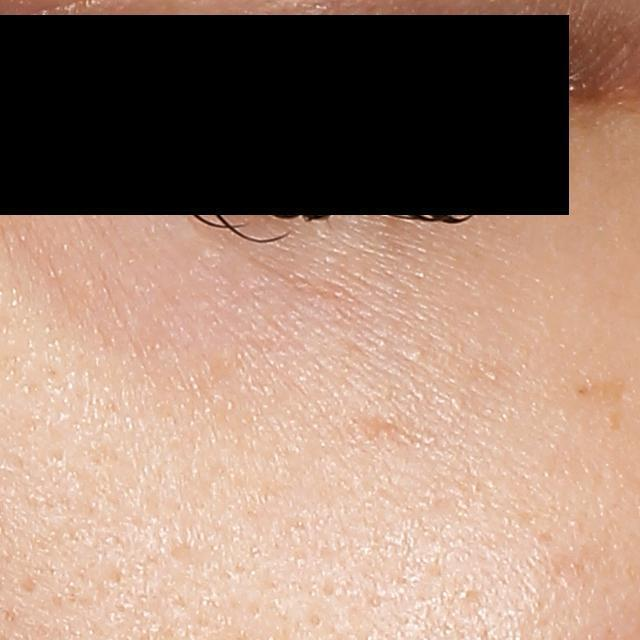melasma: (568, 366, 637, 442), (348, 400, 441, 455)
